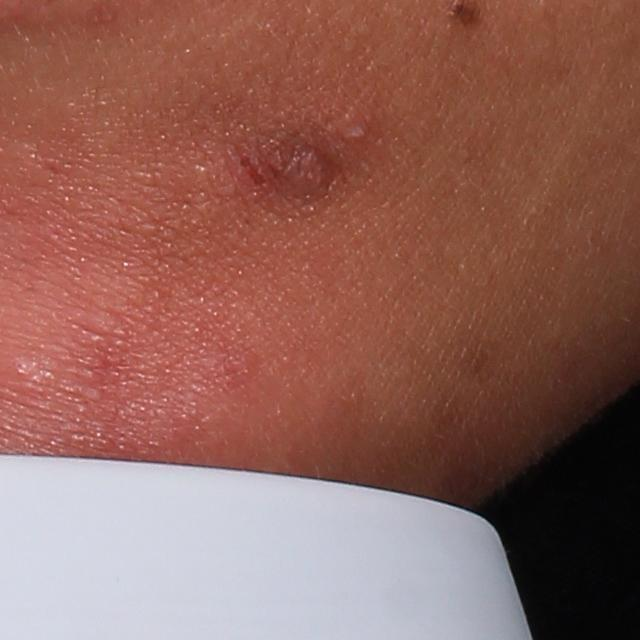papule: (278, 143, 341, 202), (338, 115, 366, 146)
